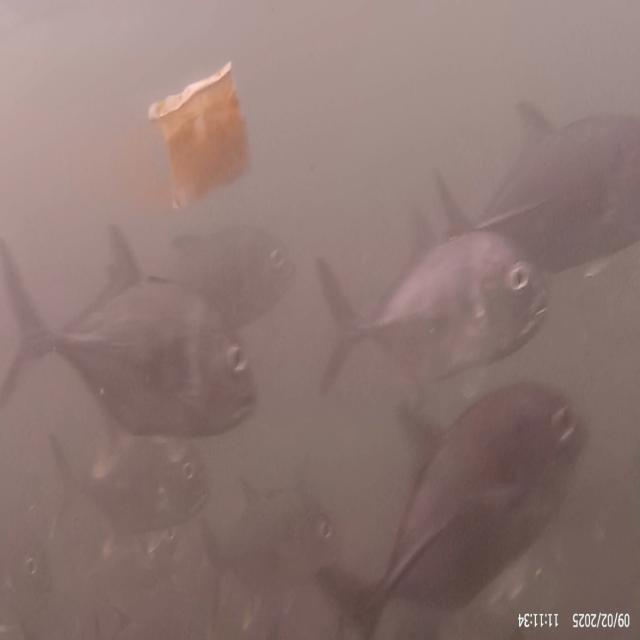ikan: (342, 393, 604, 608), (20, 231, 264, 444), (302, 203, 554, 380), (474, 60, 633, 254)
